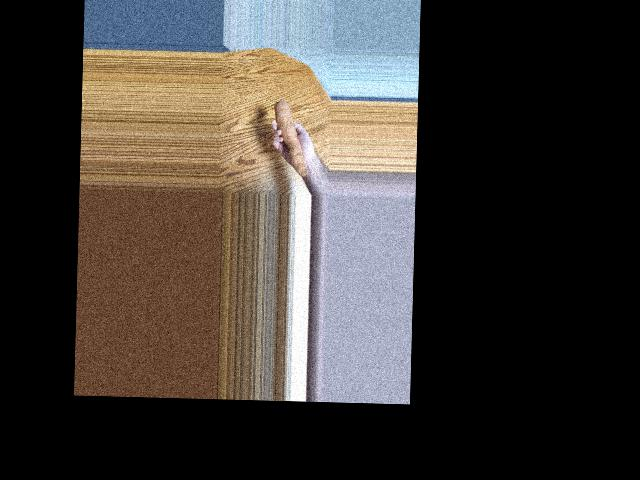sweet_potato: (271, 99, 309, 174)
